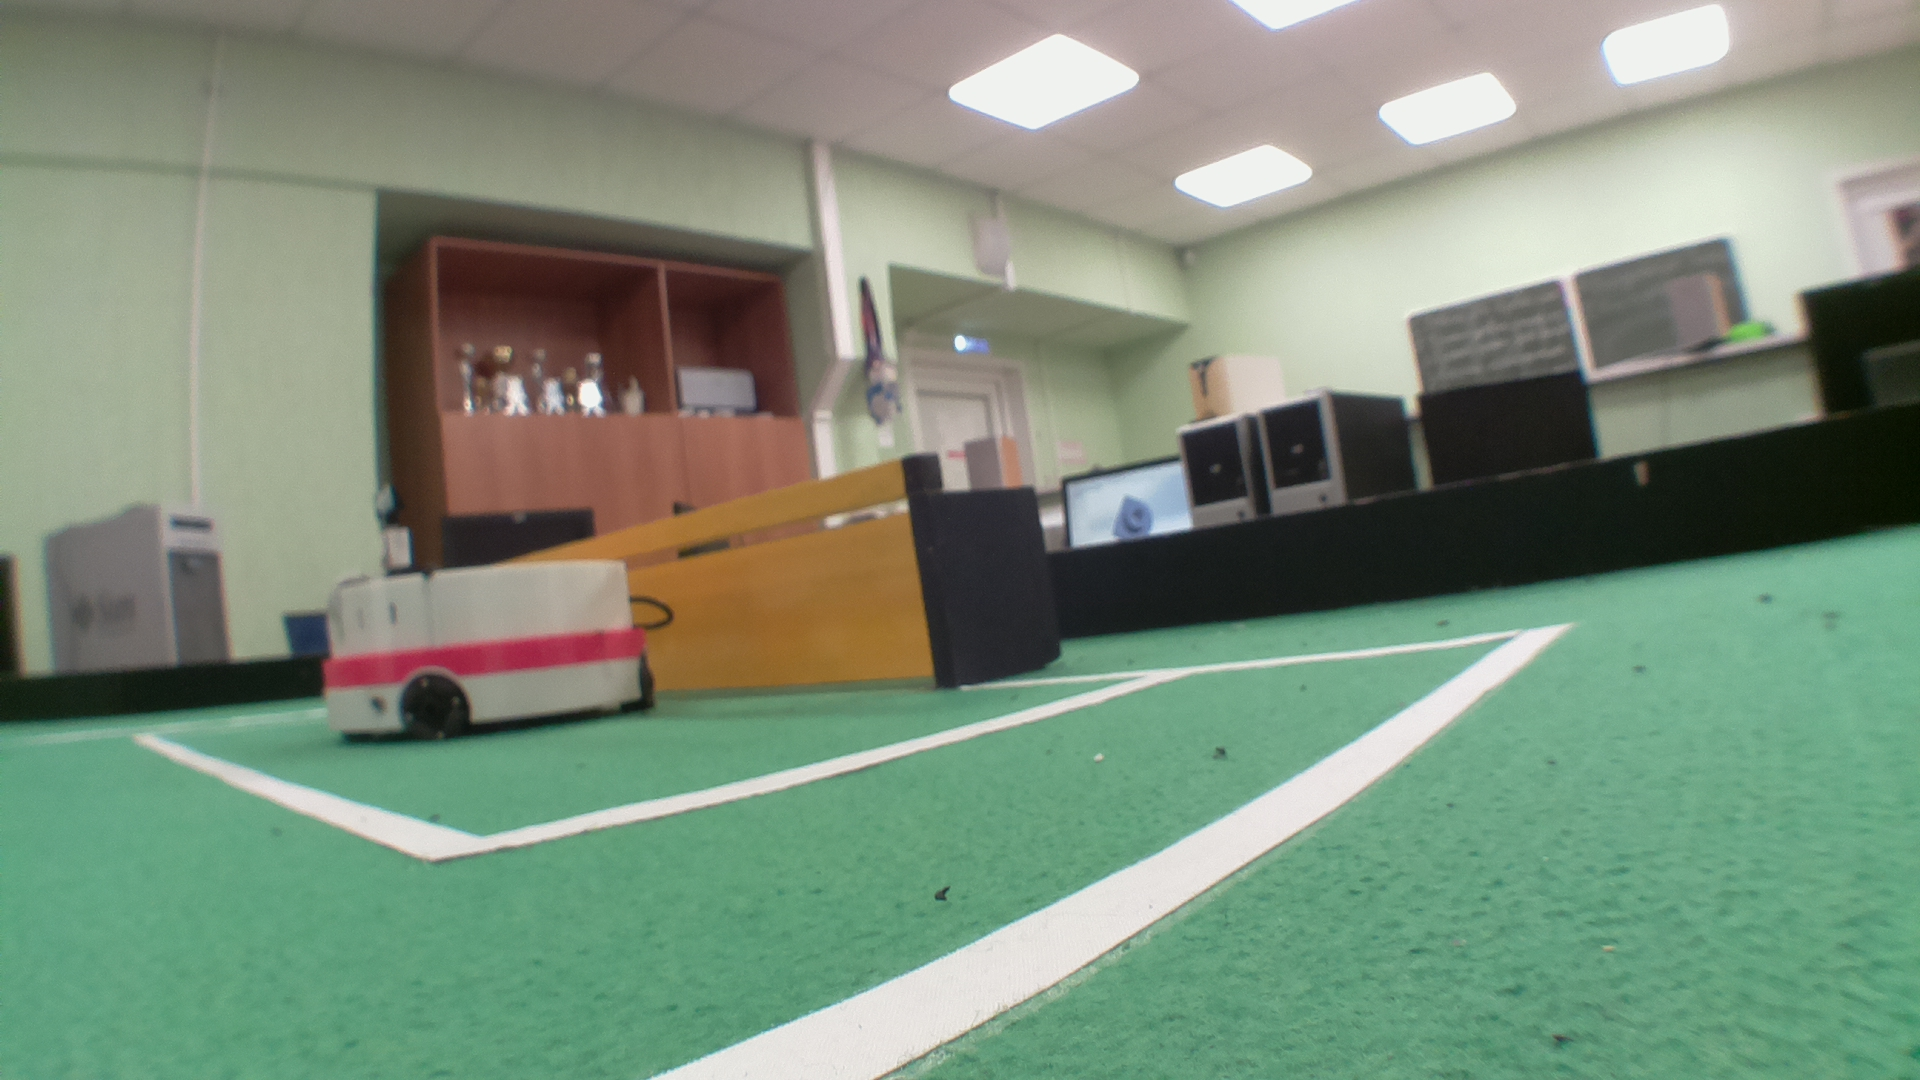YellowGoal: (562, 462, 928, 684)
